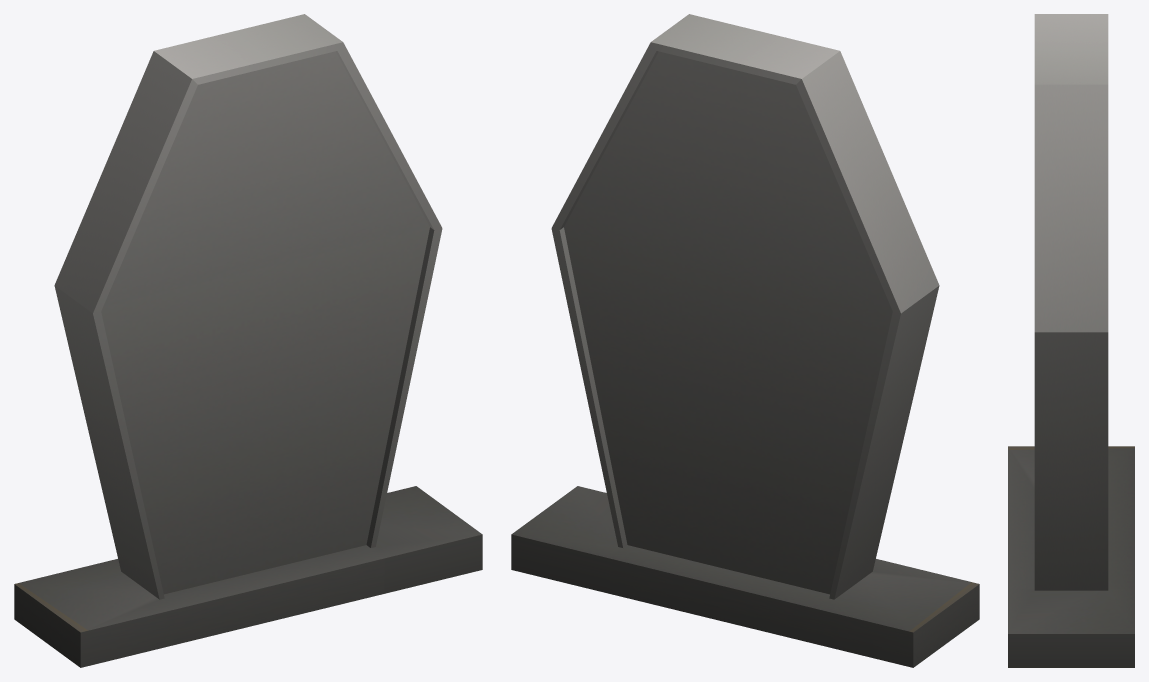
Rendered from tombston_model_05.fbx.
3 views of the same model, side by side, from view 1: azimuth 30°, elevation 25°; view 2: azimuth 150°, elevation 25°; view 3: azimuth 270°, elevation 25° (orthographic). The views are drawn at different scales.
Visible parts, largest first — view 1: Cube.004; view 2: Cube.004; view 3: Cube.004.
Part boxes in pixels (x1,y1,x2,y2): Cube.004: (14, 14, 482, 667); Cube.004: (511, 14, 979, 667); Cube.004: (1008, 14, 1134, 667).
Size of the model in its own units: 0.7 by 0.9121 by 0.2.
